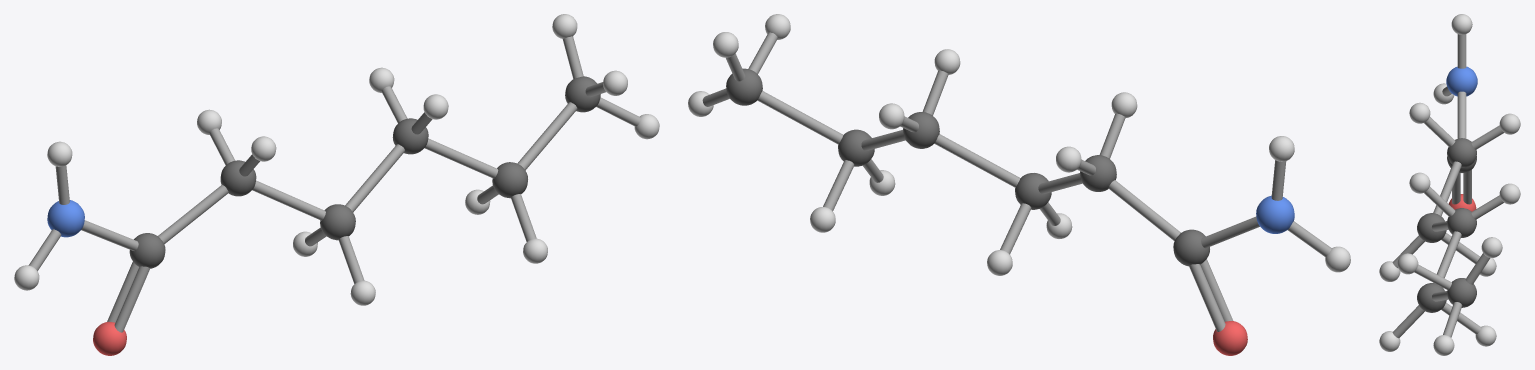
The model's file is nylon_model.glb.
3 renders of one model, left to right at view 1: azimuth 30°, elevation 25°; view 2: azimuth 150°, elevation 25°; view 3: azimuth 270°, elevation 25°, orthographic. The views are drawn at different scales.
Visible parts, largest first — view 1: C6H13NO_bond, C6H13NO_h, C6H13NO_c, C6H13NO_n, C6H13NO_o; view 2: C6H13NO_bond, C6H13NO_h, C6H13NO_c, C6H13NO_n, C6H13NO_o; view 3: C6H13NO_bond, C6H13NO_h, C6H13NO_c, C6H13NO_n, C6H13NO_o.
Boxes of the visible parts, x1=… form: C6H13NO_bond: x1=28, y1=36, x2=640, y2=332; C6H13NO_h: x1=14, y1=14, x2=659, y2=305; C6H13NO_c: x1=129, y1=76, x2=600, y2=268; C6H13NO_n: x1=47, y1=200, x2=84, y2=237; C6H13NO_o: x1=93, y1=321, x2=126, y2=355; C6H13NO_bond: x1=702, y1=32, x2=1331, y2=331; C6H13NO_h: x1=688, y1=14, x2=1350, y2=275; C6H13NO_c: x1=726, y1=68, x2=1209, y2=266; C6H13NO_n: x1=1256, y1=195, x2=1294, y2=233; C6H13NO_o: x1=1213, y1=321, x2=1247, y2=355; C6H13NO_bond: x1=1392, y1=34, x2=1503, y2=338; C6H13NO_h: x1=1379, y1=14, x2=1520, y2=355; C6H13NO_c: x1=1417, y1=138, x2=1476, y2=312; C6H13NO_n: x1=1446, y1=66, x2=1477, y2=96; C6H13NO_o: x1=1448, y1=194, x2=1476, y2=211.
Bounding box in the file's own units: 16.4 × 5.46 × 3.76.
